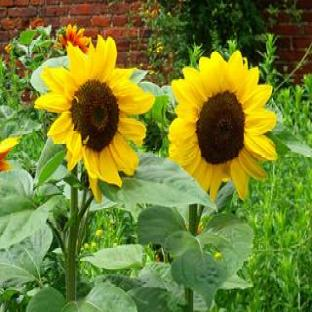sunflower: (20, 35, 155, 303)
